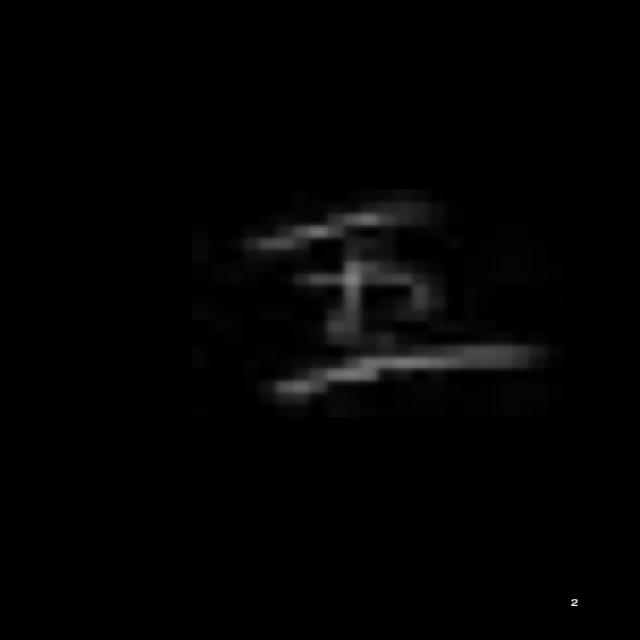5 -five-: (242, 196, 537, 401)
